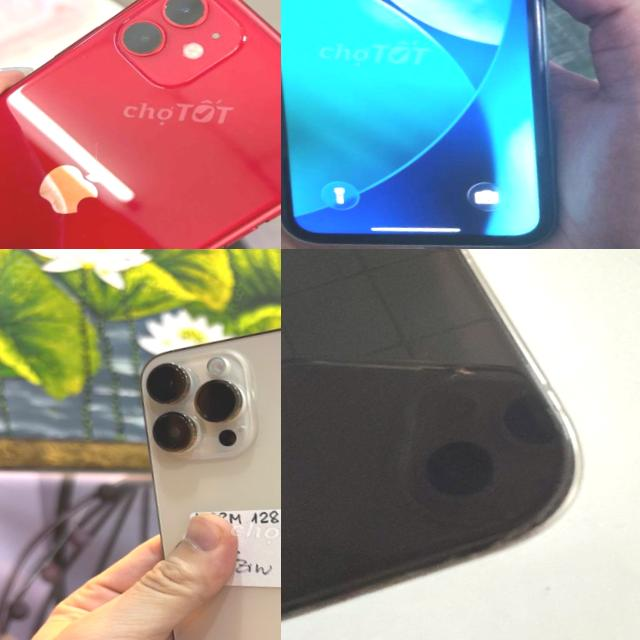gen_11: (281, 0, 587, 249), (0, 0, 281, 249)
gen_14: (281, 249, 616, 640), (108, 302, 281, 640)
